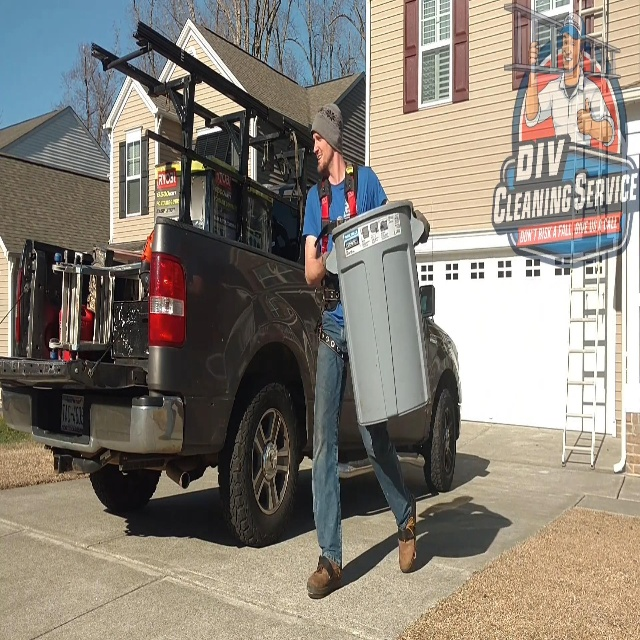Arnes_seguridad: (312, 159, 360, 358)
